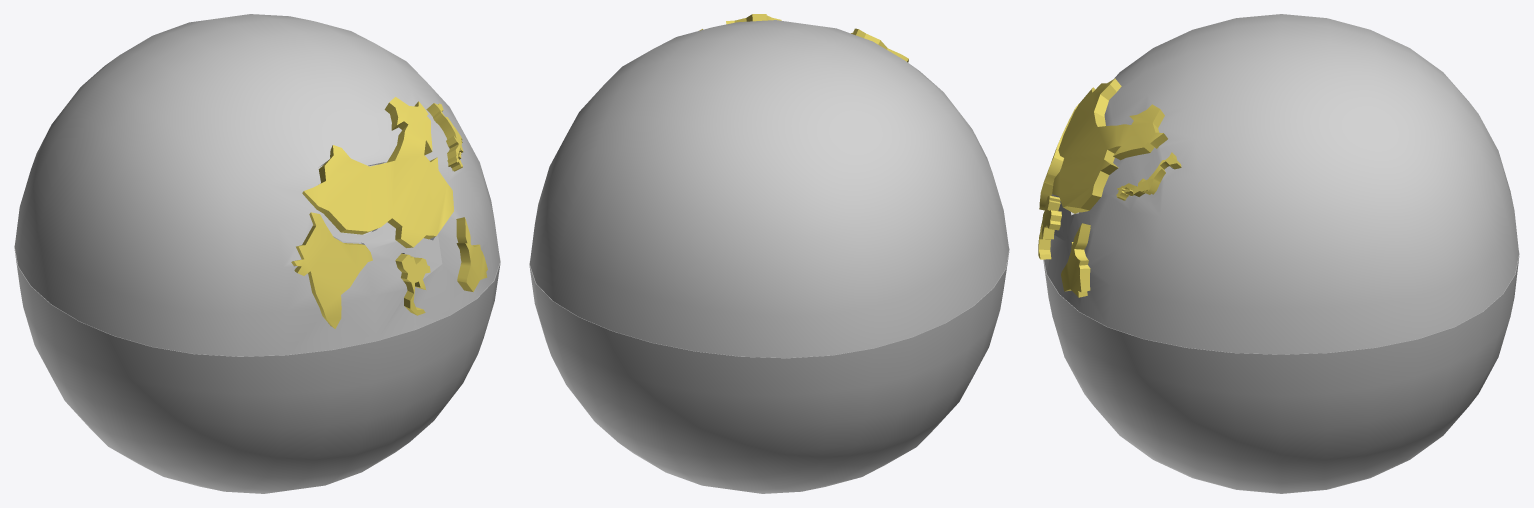
The model's file is SM_Globe.fbx.
The picture shows the model from 3 angles, left to right: view 1: azimuth 30°, elevation 25°; view 2: azimuth 150°, elevation 25°; view 3: azimuth 270°, elevation 25°; orthographic projection.
Parts seen in each view (by area): view 1: northernhemisphere_GEO, southernhemisphere_GEO, China_GEO, India_GEO, Philippines_GEO, Thailand_GEO, Japan_GEO; view 2: northernhemisphere_GEO, southernhemisphere_GEO, China_GEO; view 3: northernhemisphere_GEO, southernhemisphere_GEO, China_GEO, Philippines_GEO, Thailand_GEO, Japan_GEO, India_GEO.
Boxes of the visible parts, left/top/right/bottom form: northernhemisphere_GEO: left=14, top=14, right=500, bottom=356; southernhemisphere_GEO: left=14, top=246, right=500, bottom=493; China_GEO: left=302, top=97, right=453, bottom=247; India_GEO: left=291, top=212, right=372, bottom=328; Philippines_GEO: left=456, top=217, right=487, bottom=291; Thailand_GEO: left=395, top=253, right=430, bottom=315; Japan_GEO: left=426, top=103, right=463, bottom=171; northernhemisphere_GEO: left=529, top=20, right=1009, bottom=358; southernhemisphere_GEO: left=529, top=248, right=1009, bottom=493; China_GEO: left=726, top=14, right=908, bottom=62; northernhemisphere_GEO: left=1044, top=14, right=1518, bottom=354; southernhemisphere_GEO: left=1043, top=250, right=1519, bottom=493; China_GEO: left=1052, top=78, right=1167, bottom=213; Philippines_GEO: left=1061, top=223, right=1090, bottom=297; Thailand_GEO: left=1038, top=195, right=1061, bottom=259; Japan_GEO: left=1116, top=152, right=1181, bottom=200; India_GEO: left=1039, top=104, right=1078, bottom=210.
Size of the model in its own units: 127 by 126 by 128.
